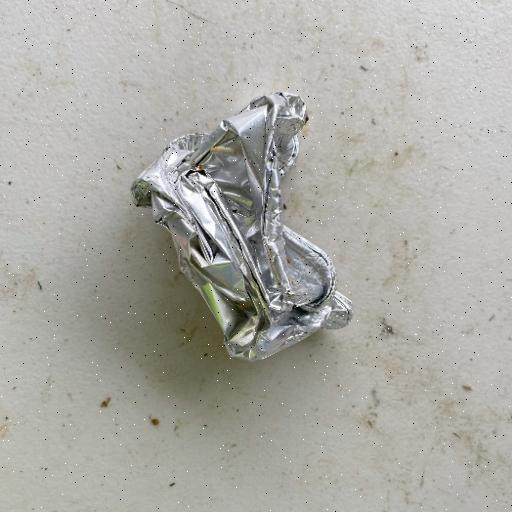Metal: (128, 89, 354, 363)
